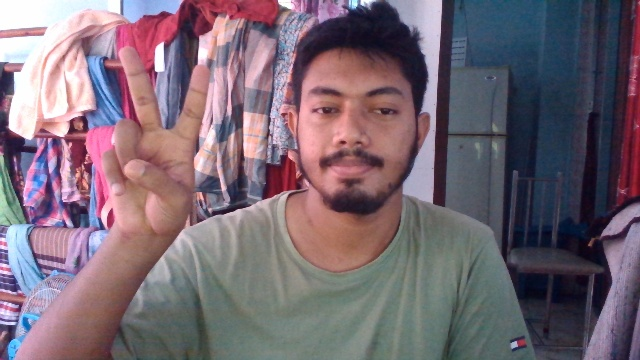thanks: (95, 40, 212, 254)
